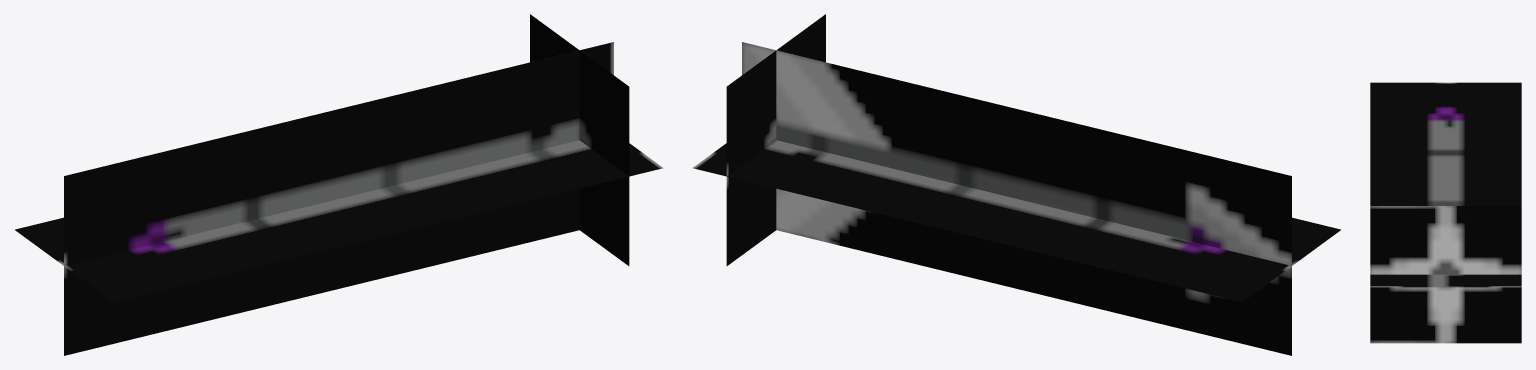
3 renders of one model, left to right at view 1: azimuth 30°, elevation 25°; view 2: azimuth 150°, elevation 25°; view 3: azimuth 270°, elevation 25°, orthographic. The views are drawn at different scales.
Parts seen in each view (by area): view 1: arrow, bone; view 2: arrow, bone; view 3: bone, arrow.
Part boxes in pixels (<box>): arrow: <box>64,14,629,355</box>; bone: <box>15,140,663,302</box>; arrow: <box>726,14,1291,355</box>; bone: <box>692,140,1340,302</box>; bone: <box>1370,82,1521,287</box>; arrow: <box>1370,206,1521,343</box>.
Size of the model in its own units: 1 by 0.3125 by 0.3125.
